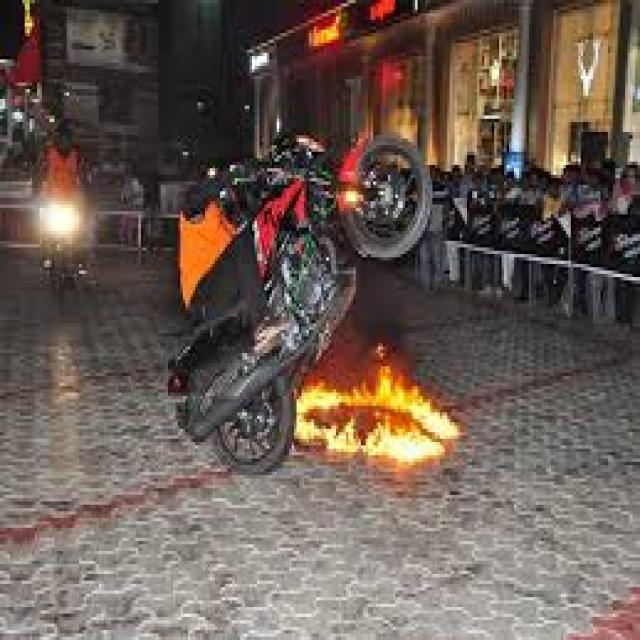fire: (365, 413, 445, 458), (297, 380, 376, 413), (412, 386, 460, 438), (375, 366, 413, 413), (326, 416, 361, 452)
